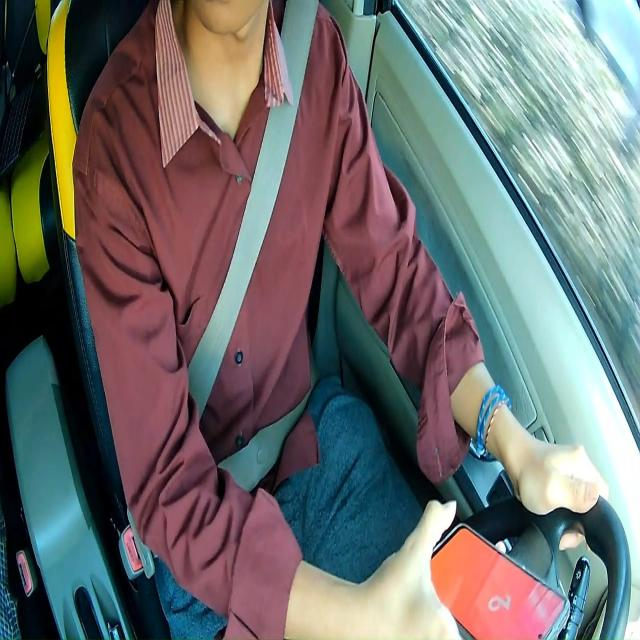phone: (429, 522, 571, 640)
